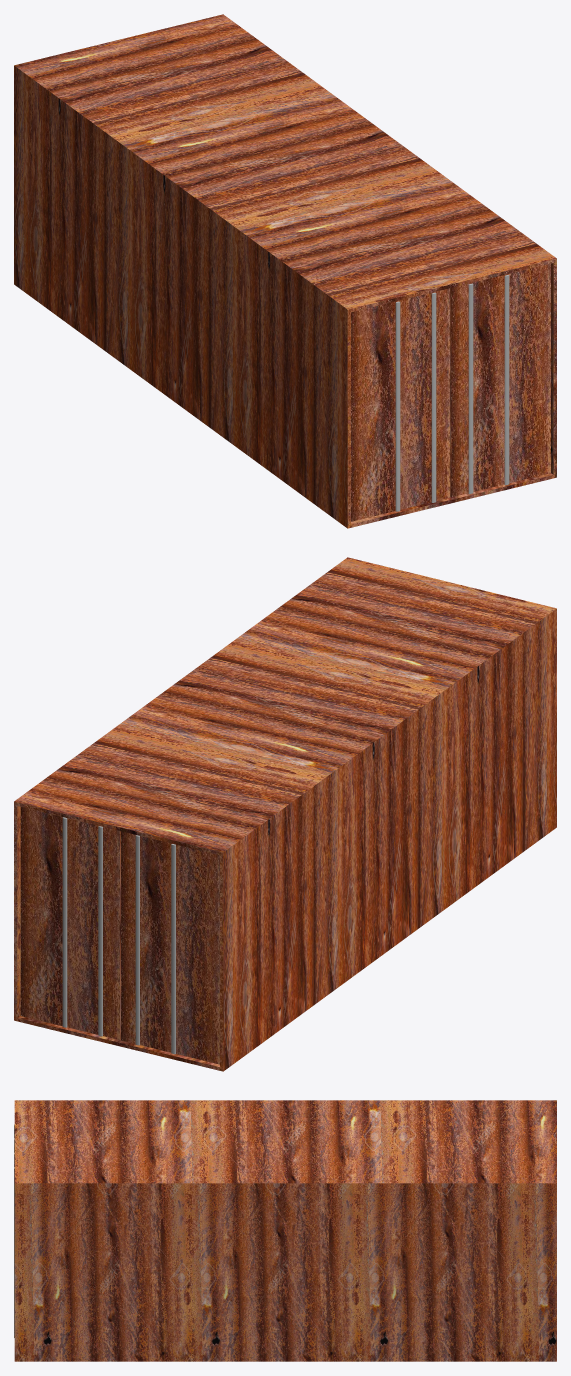
The model's file is container.fbx.
3 views of the same model, one above another, from view 1: azimuth 30°, elevation 25°; view 2: azimuth 150°, elevation 25°; view 3: azimuth 270°, elevation 25° (orthographic). The views are drawn at different scales.
Parts seen in each view (by area): view 1: Cube, 立方体.001, 円柱; view 2: Cube, 立方体, 円柱.001; view 3: Cube.
Boxes of the visible parts, x1=… form: Cube: x1=14, y1=14, x2=556, y2=528; 立方体.001: x1=351, y1=263, x2=550, y2=521; 円柱: x1=395, y1=275, x2=509, y2=511; Cube: x1=14, y1=557, x2=556, y2=1071; 立方体: x1=20, y1=807, x2=219, y2=1064; 円柱.001: x1=62, y1=817, x2=175, y2=1054; Cube: x1=14, y1=1100, x2=556, y2=1361.
Size of the model in its own units: 200 by 200 by 553.
Materials: 8 (4 with a texture image).
